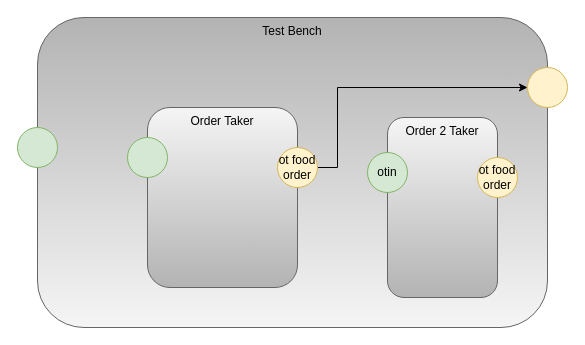
The diagram is 585 pixels wide and 345 high, and some of its shapes have lost their labels. The shapes that lost their labels are listed below. From the top down, each one's centre as x and y in pixels, then its label:
the point at 547,87: tbo1
the point at 37,147: tbjunk
the point at 147,157: otjunk
